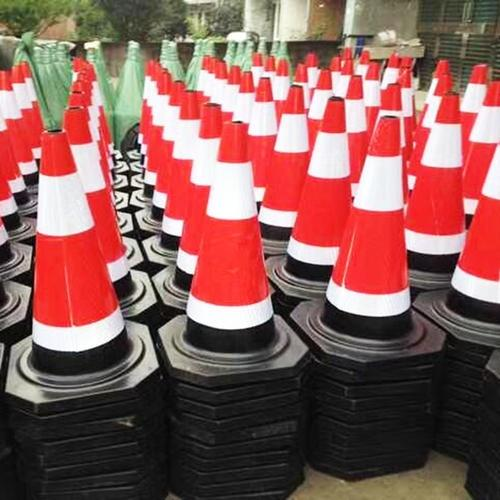cone_barrel: (173, 116, 288, 367), (17, 129, 129, 385), (315, 113, 415, 343), (58, 105, 139, 303), (288, 97, 359, 293), (402, 91, 469, 282), (443, 143, 499, 328), (168, 102, 221, 293), (258, 82, 311, 238), (157, 90, 199, 254), (143, 79, 185, 225), (464, 80, 498, 223), (247, 72, 277, 190), (458, 63, 488, 151), (342, 70, 367, 160), (306, 64, 332, 130), (233, 66, 254, 124)
